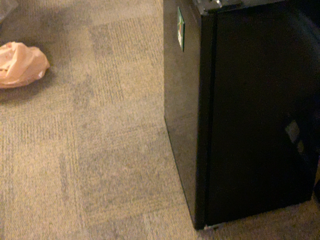Obstacle: (165, 1, 317, 233), (0, 41, 50, 94)
